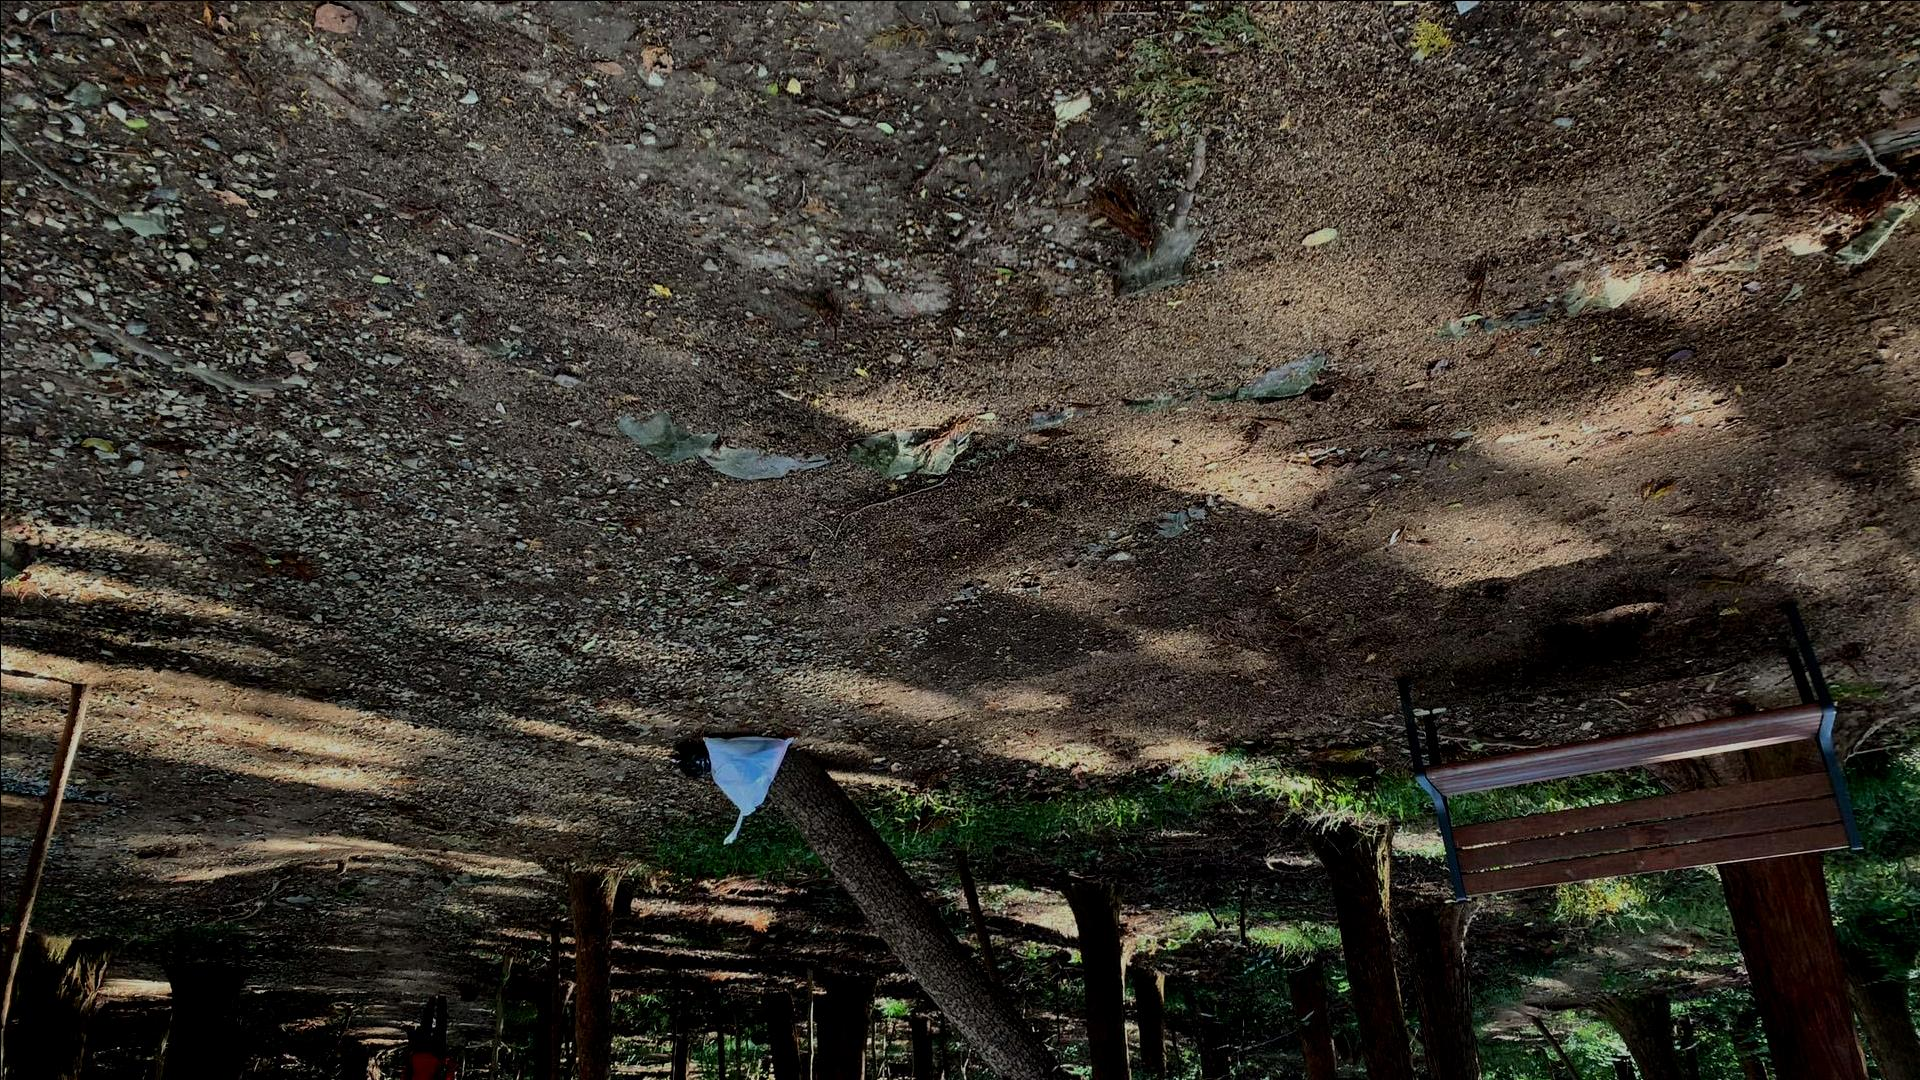black_bag: (671, 740, 716, 781)
white_bag: (699, 732, 795, 848)
